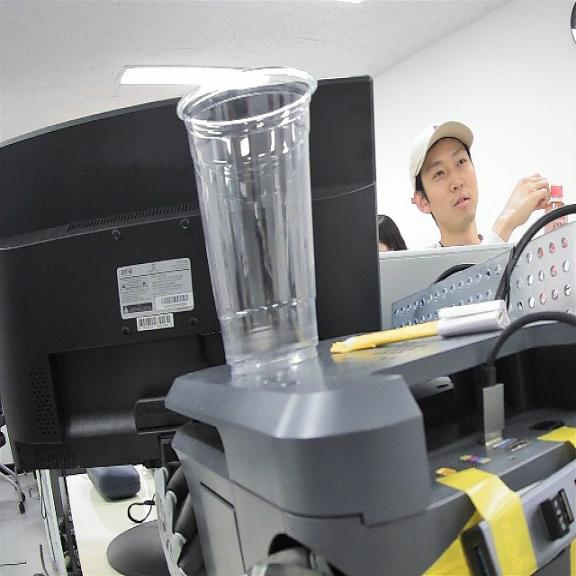Plastik: (177, 69, 317, 377)
